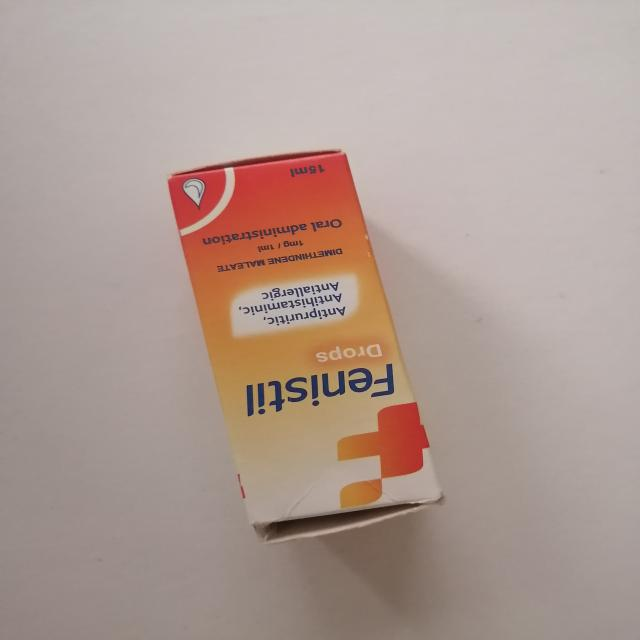Medicine: (168, 142, 448, 549)
